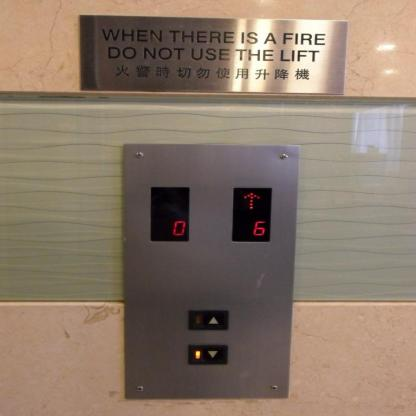down: (185, 342, 230, 366)
led: (230, 184, 274, 244), (148, 184, 190, 243)
up: (186, 308, 231, 331)
